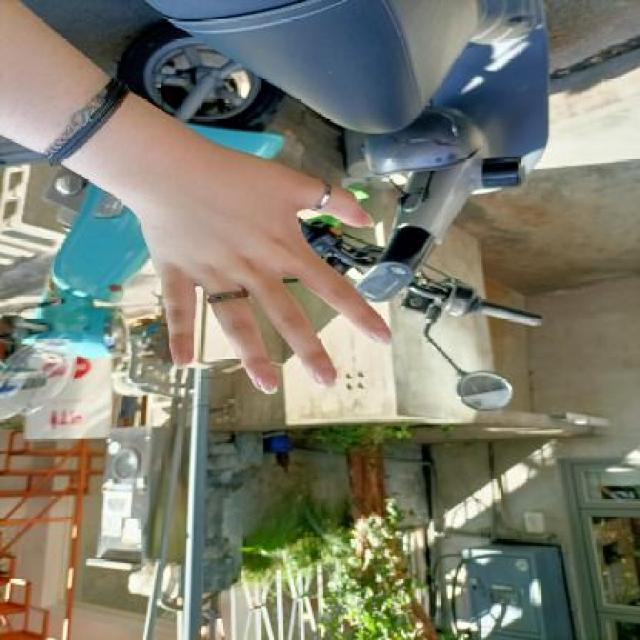bare_hand: (114, 125, 412, 398)
